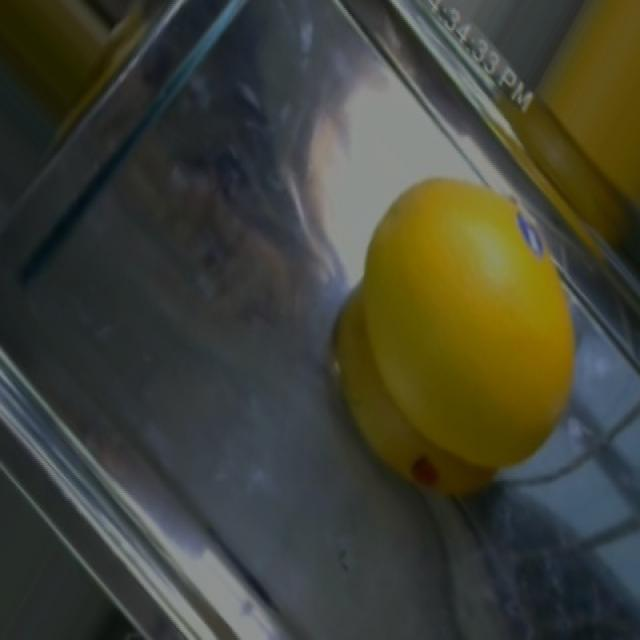Fruit: (312, 137, 596, 517), (514, 2, 640, 236)
